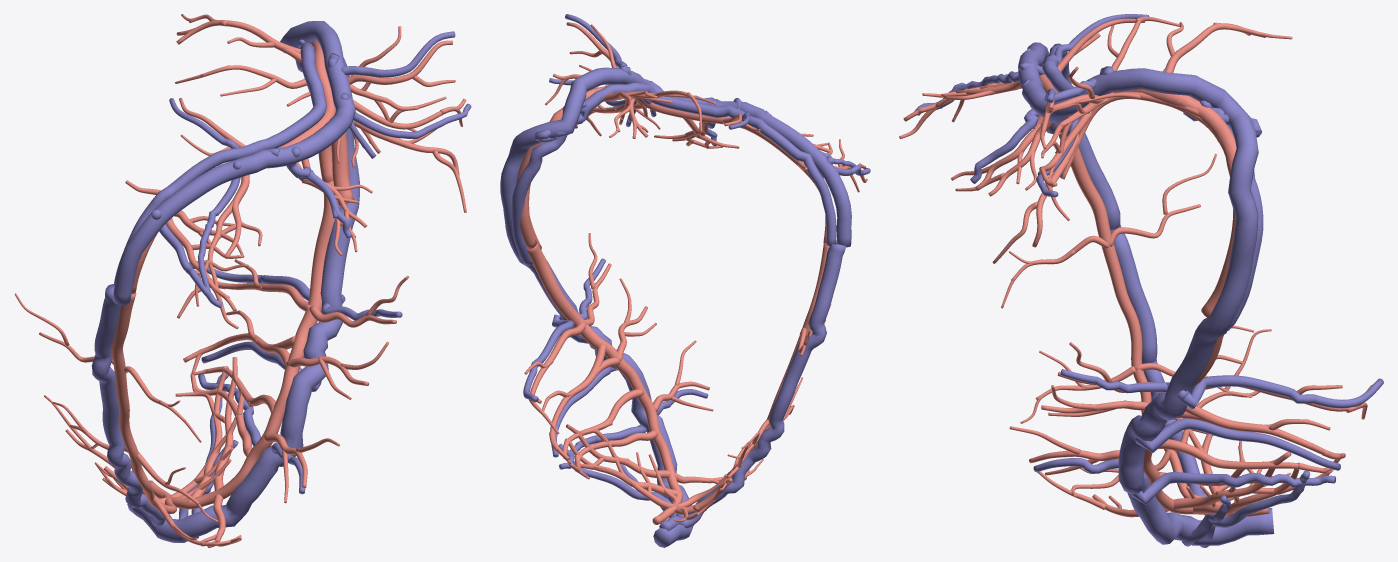
File: vessels_12.glb
3 renders of one model, left to right at view 1: azimuth 30°, elevation 25°; view 2: azimuth 150°, elevation 25°; view 3: azimuth 270°, elevation 25°, orthographic. The views are drawn at different scales.
Visible parts, largest first — view 1: Renderer Node; view 2: Renderer Node; view 3: Renderer Node.
Boxes of the visible parts, bbox=[...] form: Renderer Node: bbox=[14, 14, 471, 547]; Renderer Node: bbox=[500, 14, 870, 547]; Renderer Node: bbox=[899, 14, 1383, 547].
Size of the model in its own units: 95.11 by 123 by 95.33.
